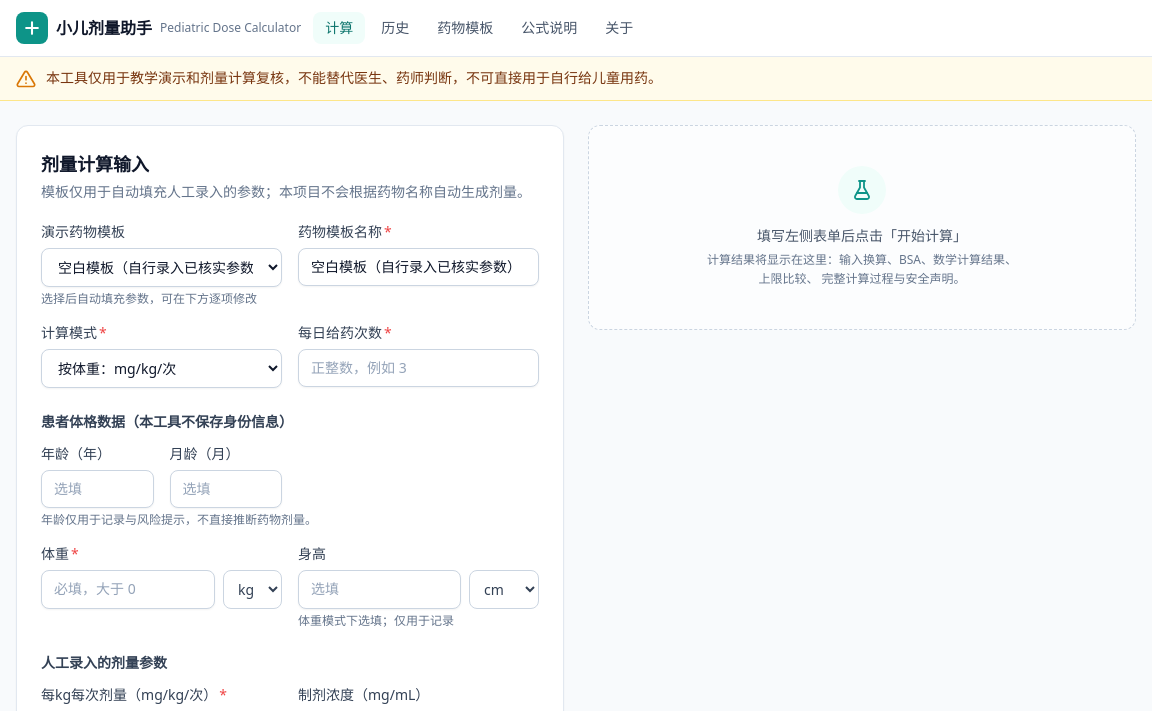
Test: 页面与按钮冒烟测试 › 公式说明页：展示 Mosteller 与换算公式
Click the link "公式说明".
click(549, 28)  # box [521, 18, 577, 37]
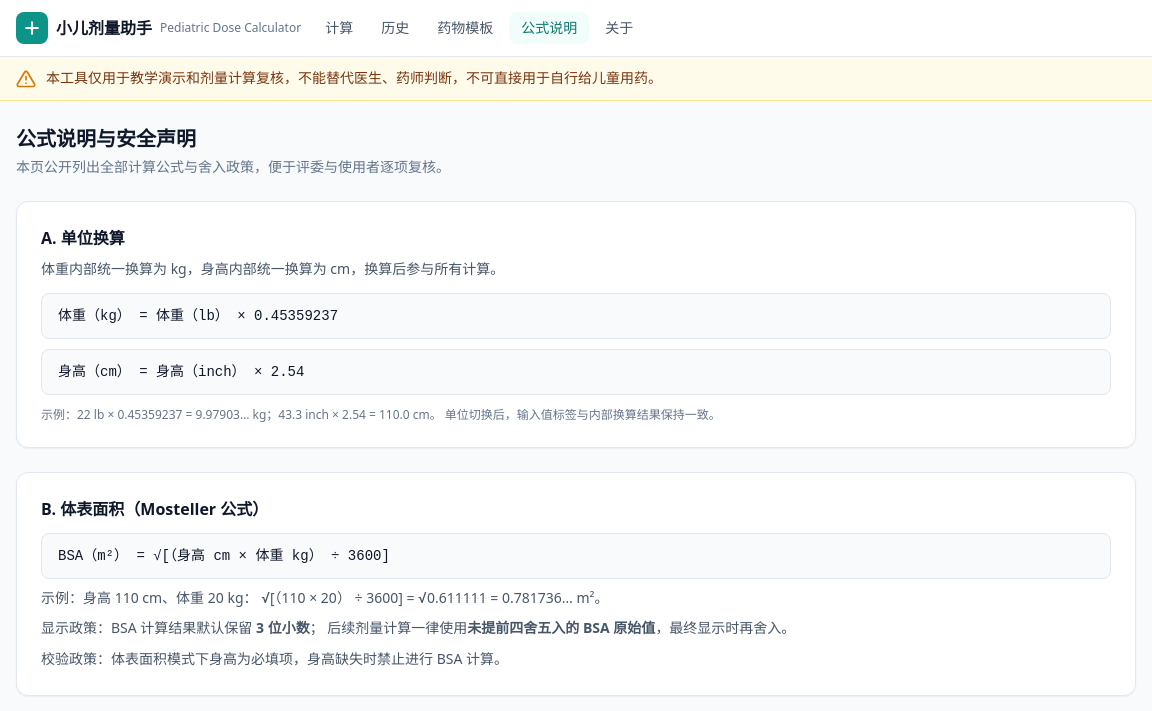
Now the heading "公式说明与安全声明" is shown, box [16, 125, 196, 152]
Now the text "BSA（m²） = √[（身高 cm × 体重 kg） ÷ 3600]" is shown, box [58, 548, 390, 564]
Now the text "体重（kg） = 体重（lb） × 0.45359237" is shown, box [58, 308, 338, 324]
